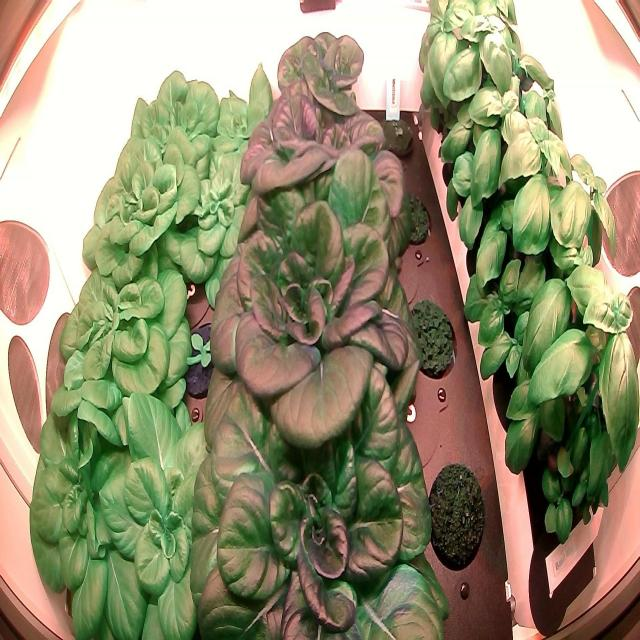Ready: (181, 351, 459, 640), (198, 160, 430, 462), (236, 80, 410, 246), (262, 20, 374, 148)
germination: (372, 98, 424, 166)
pod: (426, 460, 488, 574), (406, 292, 460, 383), (390, 189, 436, 249)
young: (94, 387, 255, 640), (26, 399, 156, 637), (50, 239, 193, 429), (79, 131, 217, 293), (168, 153, 267, 311), (116, 60, 226, 181), (201, 54, 295, 175), (176, 307, 229, 405)
